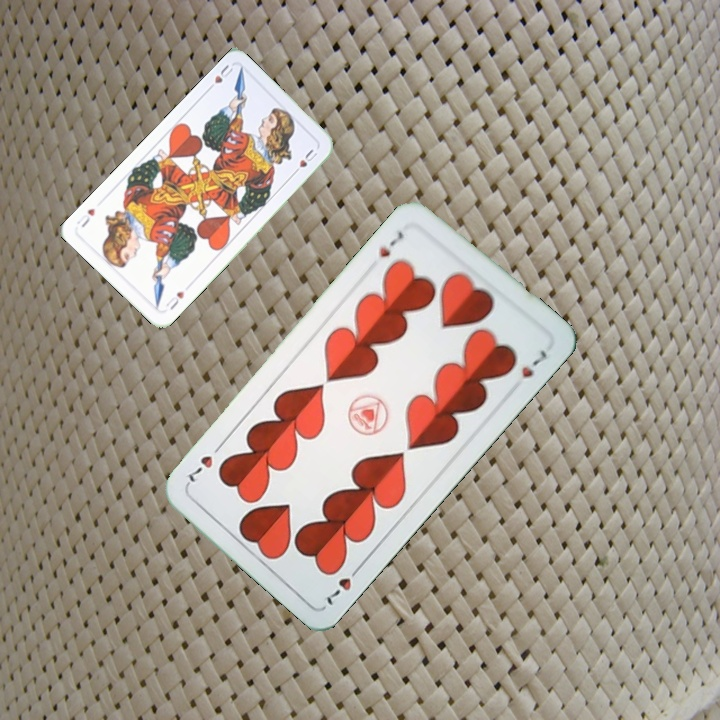H7: (322, 560, 365, 608), (375, 227, 407, 260)
HU: (203, 60, 237, 94), (161, 287, 187, 312)
